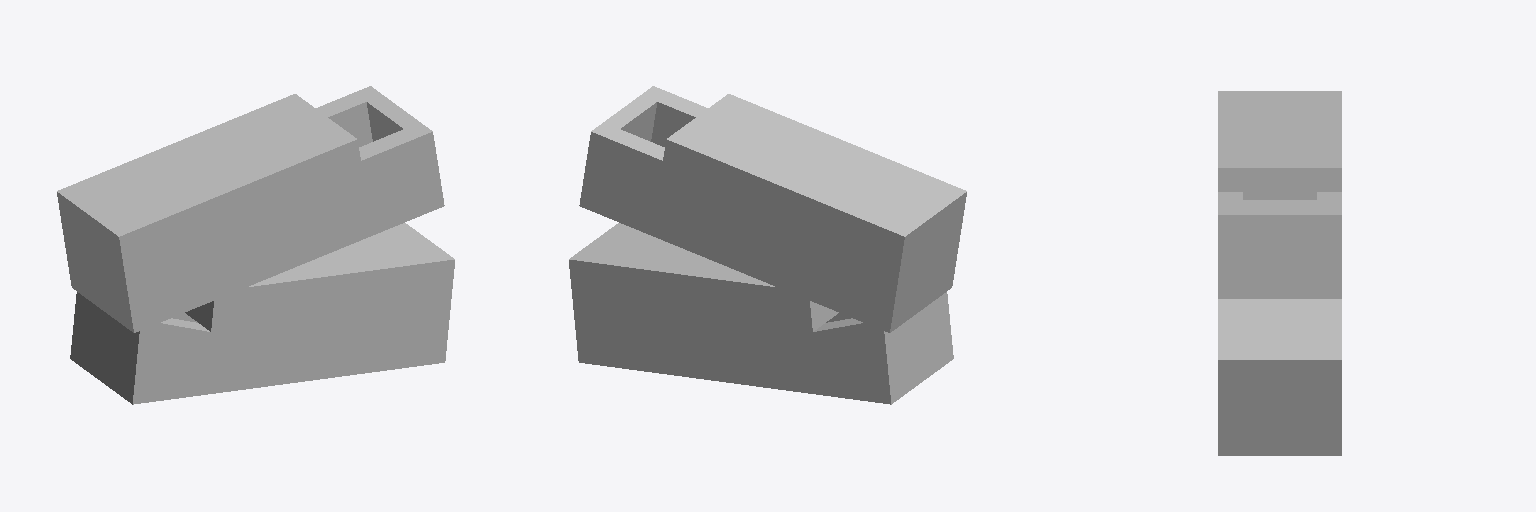
File: SlideCollider.obj
3 renders of one model, left to right at view 1: azimuth 30°, elevation 25°; view 2: azimuth 150°, elevation 25°; view 3: azimuth 270°, elevation 25°, orthographic.
Parts seen in each view (by area): view 1: SlideCLDR; view 2: SlideCLDR; view 3: SlideCLDR.
Part boxes in pixels (x1,y1,x2,y2): SlideCLDR: (57, 86, 454, 404); SlideCLDR: (569, 86, 966, 404); SlideCLDR: (1218, 91, 1341, 455).
Size of the model in its own units: 1.56 by 1.08 by 0.5.